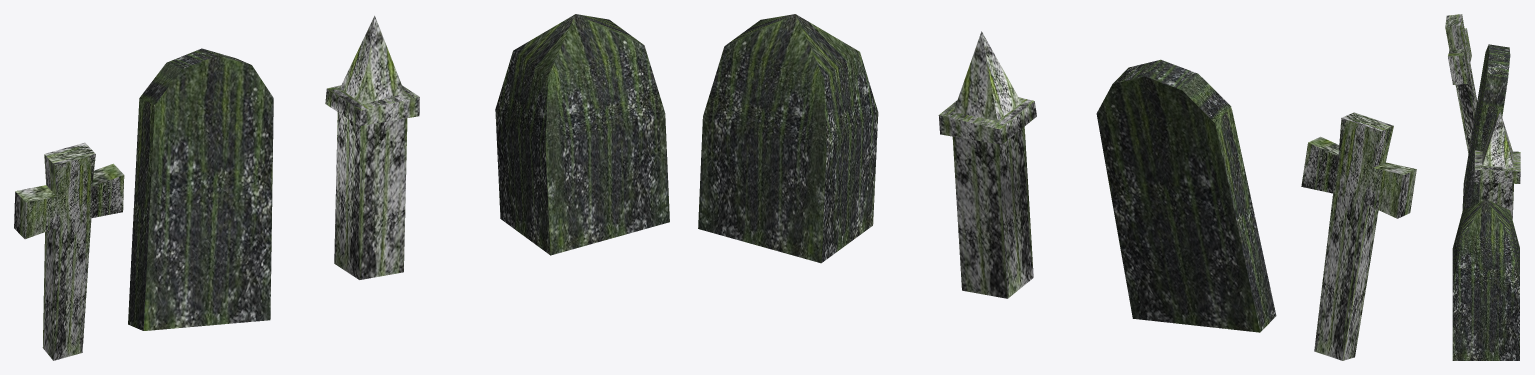
File: headstonesGroup3.fbx
3 views of the same model, side by side, from view 1: azimuth 30°, elevation 25°; view 2: azimuth 150°, elevation 25°; view 3: azimuth 270°, elevation 25° (orthographic). The views are drawn at different scales.
Visible parts, largest first — view 1: Gravestone7, Gravestone5, Gravestone6, Gravestone12; view 2: Gravestone5, Gravestone7, Gravestone6, Gravestone12; view 3: Gravestone5, Gravestone7, Gravestone6, Gravestone12.
Part boxes in pixels (x1,y1,x2,y2): Gravestone7: (128,48,273,330); Gravestone5: (495,14,669,255); Gravestone6: (325,15,419,279); Gravestone12: (14,142,124,360); Gravestone5: (698,14,878,263); Gravestone7: (1096,59,1276,332); Gravestone6: (938,31,1036,298); Gravestone12: (1301,112,1416,360); Gravestone5: (1452,199,1519,360); Gravestone7: (1462,44,1510,209); Gravestone6: (1474,112,1520,219); Gravestone12: (1445,14,1477,153).
Bounding box in the file's own units: 1442 × 561 × 217.
1 material, 1 textured.
